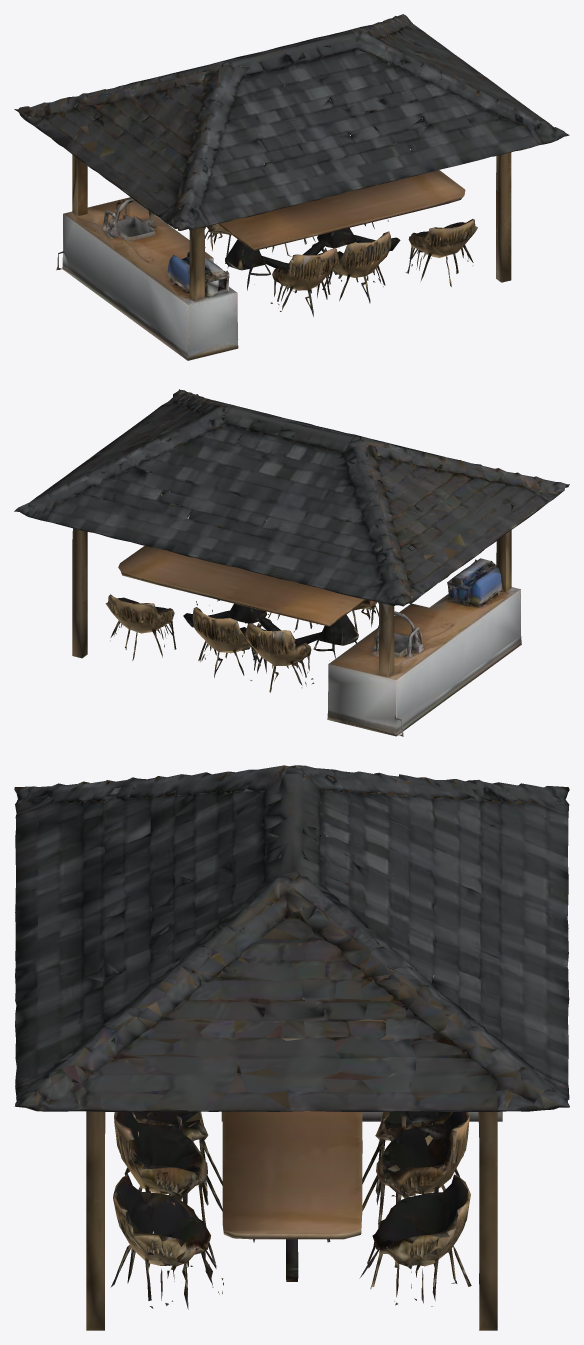
Rendered from Tiki_Pavilion.glb.
3 views of the same model, one above another, from view 1: azimuth 30°, elevation 25°; view 2: azimuth 150°, elevation 25°; view 3: azimuth 270°, elevation 25° (orthographic). The views are drawn at different scales.
Visible parts, largest first — view 1: Tiki_Pavilion; view 2: Tiki_Pavilion; view 3: Tiki_Pavilion.
Boxes of the visible parts, x1=… form: Tiki_Pavilion: x1=14, y1=14, x2=569, y2=360; Tiki_Pavilion: x1=14, y1=389, x2=569, y2=736; Tiki_Pavilion: x1=14, y1=765, x2=569, y2=1330.
Size of the model in its own units: 1.9 by 1.07 by 1.4.
1 material, 1 textured.
